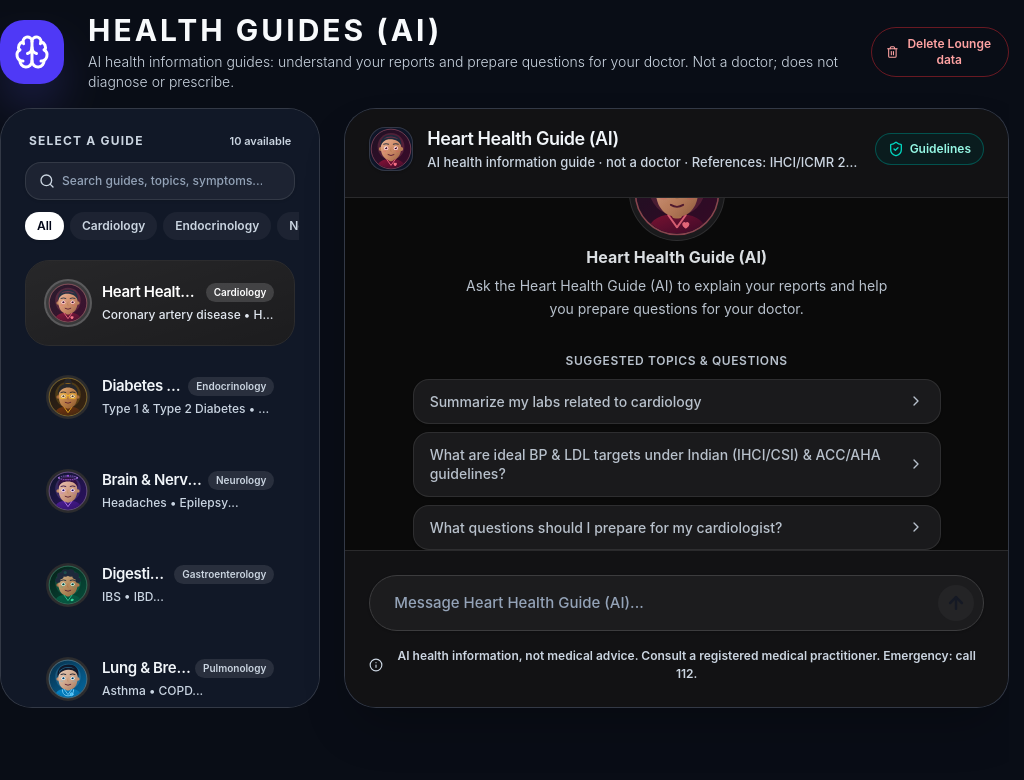
Test case: SpecialistLounge Category Filter & Real-Time Highlight Effects › clears search query and highlights when clear button is clicked
(page scrolled)
Type "Heart" into the field with placeholder "Search guides, topics, symptoms..." at [160, 180], box [25,162,295,200]
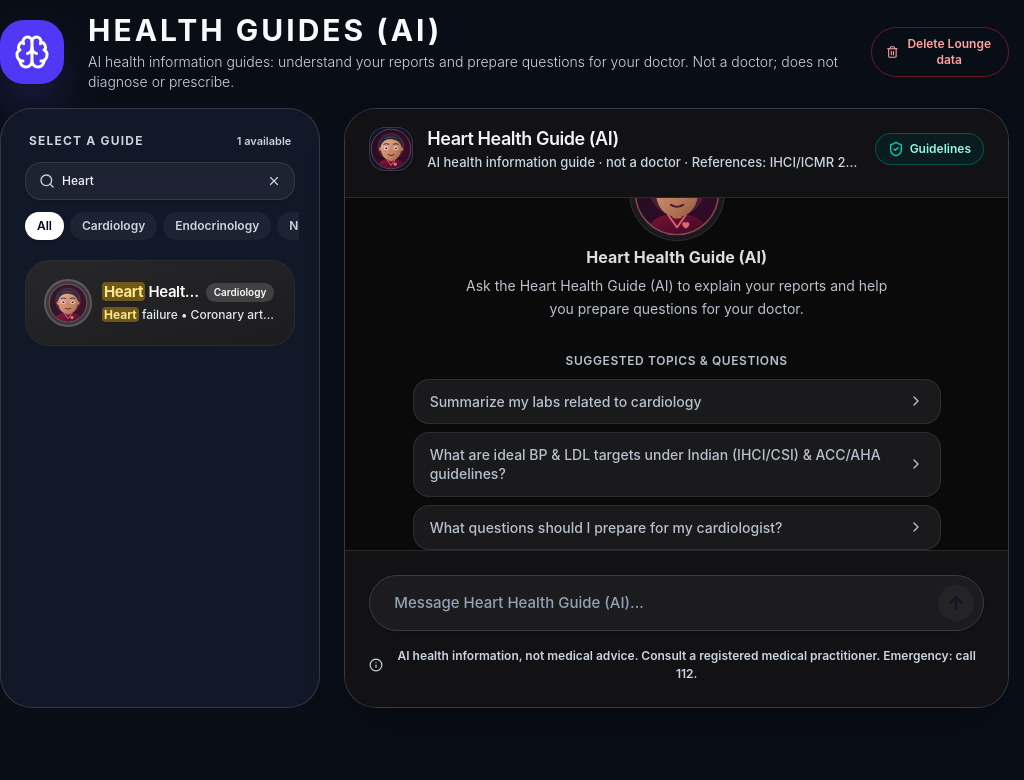
Expected: the button named "Clear search" is shown
Click the button named "Clear search" at [274, 180], box [263,170,285,192]
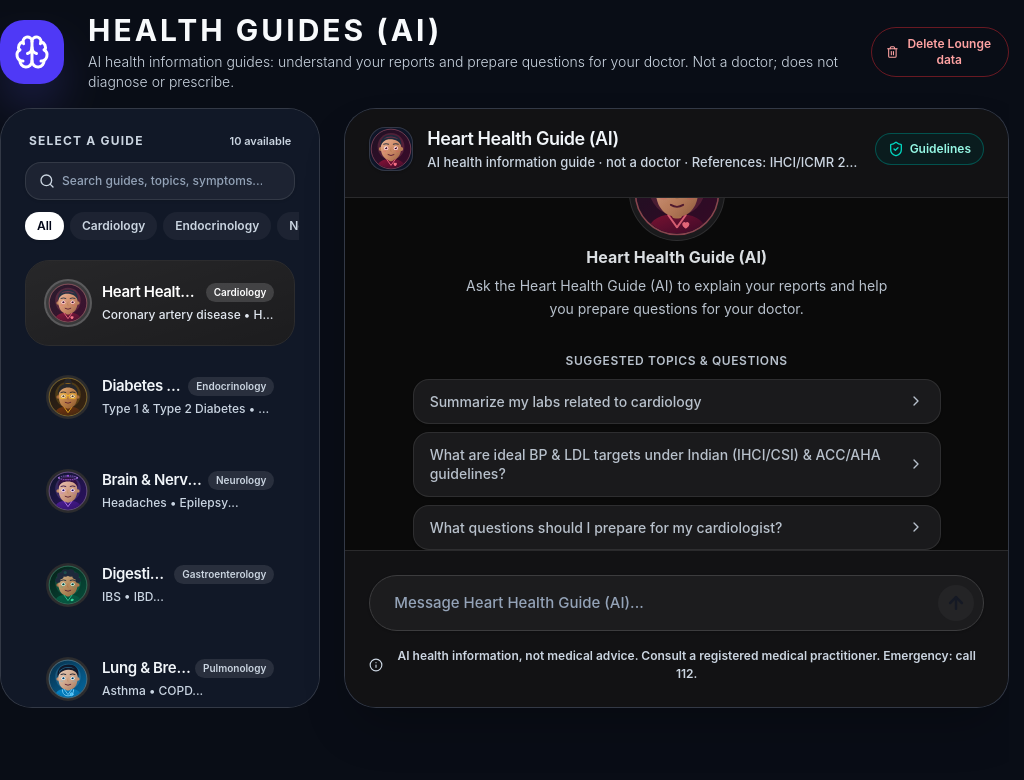
Expected: the field with placeholder "Search guides, topics, symptoms..." is empty, [25,162,295,200]
Expected: the button "Diabetes & Thyroid Guide (AI)" is shown, [25,354,295,440]
Expected: no elements with test id "search-highlight" are shown
